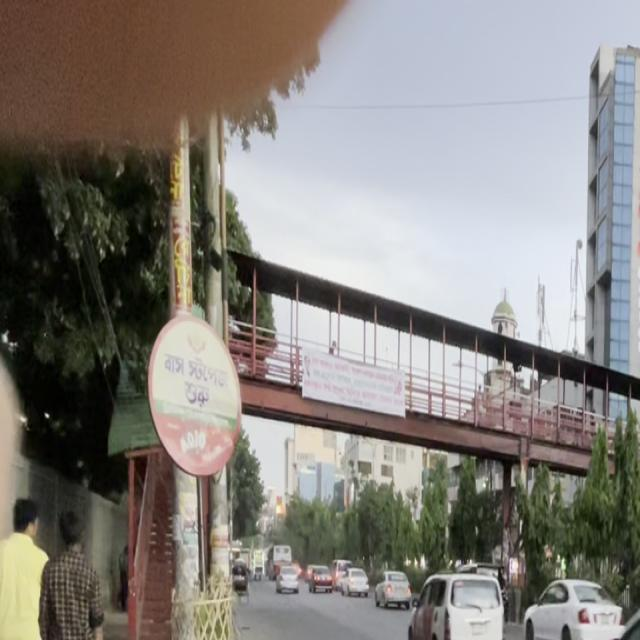car: (396, 552, 514, 640), (524, 557, 619, 640), (564, 569, 640, 639)
